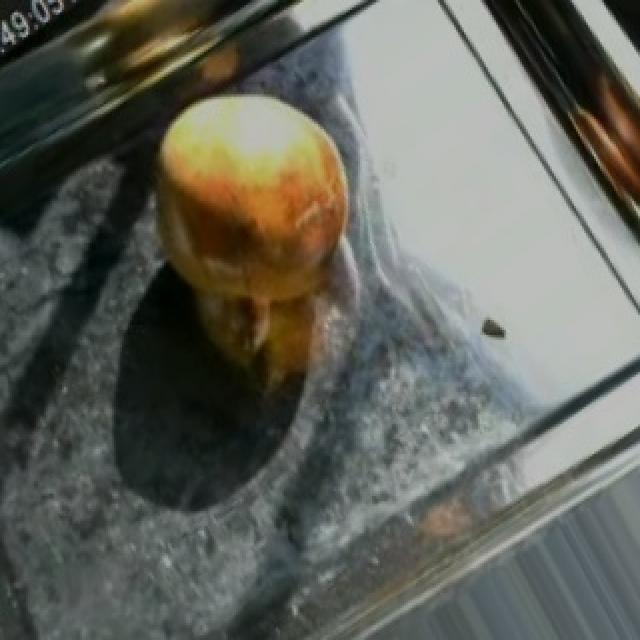fruit: (114, 62, 378, 337)
